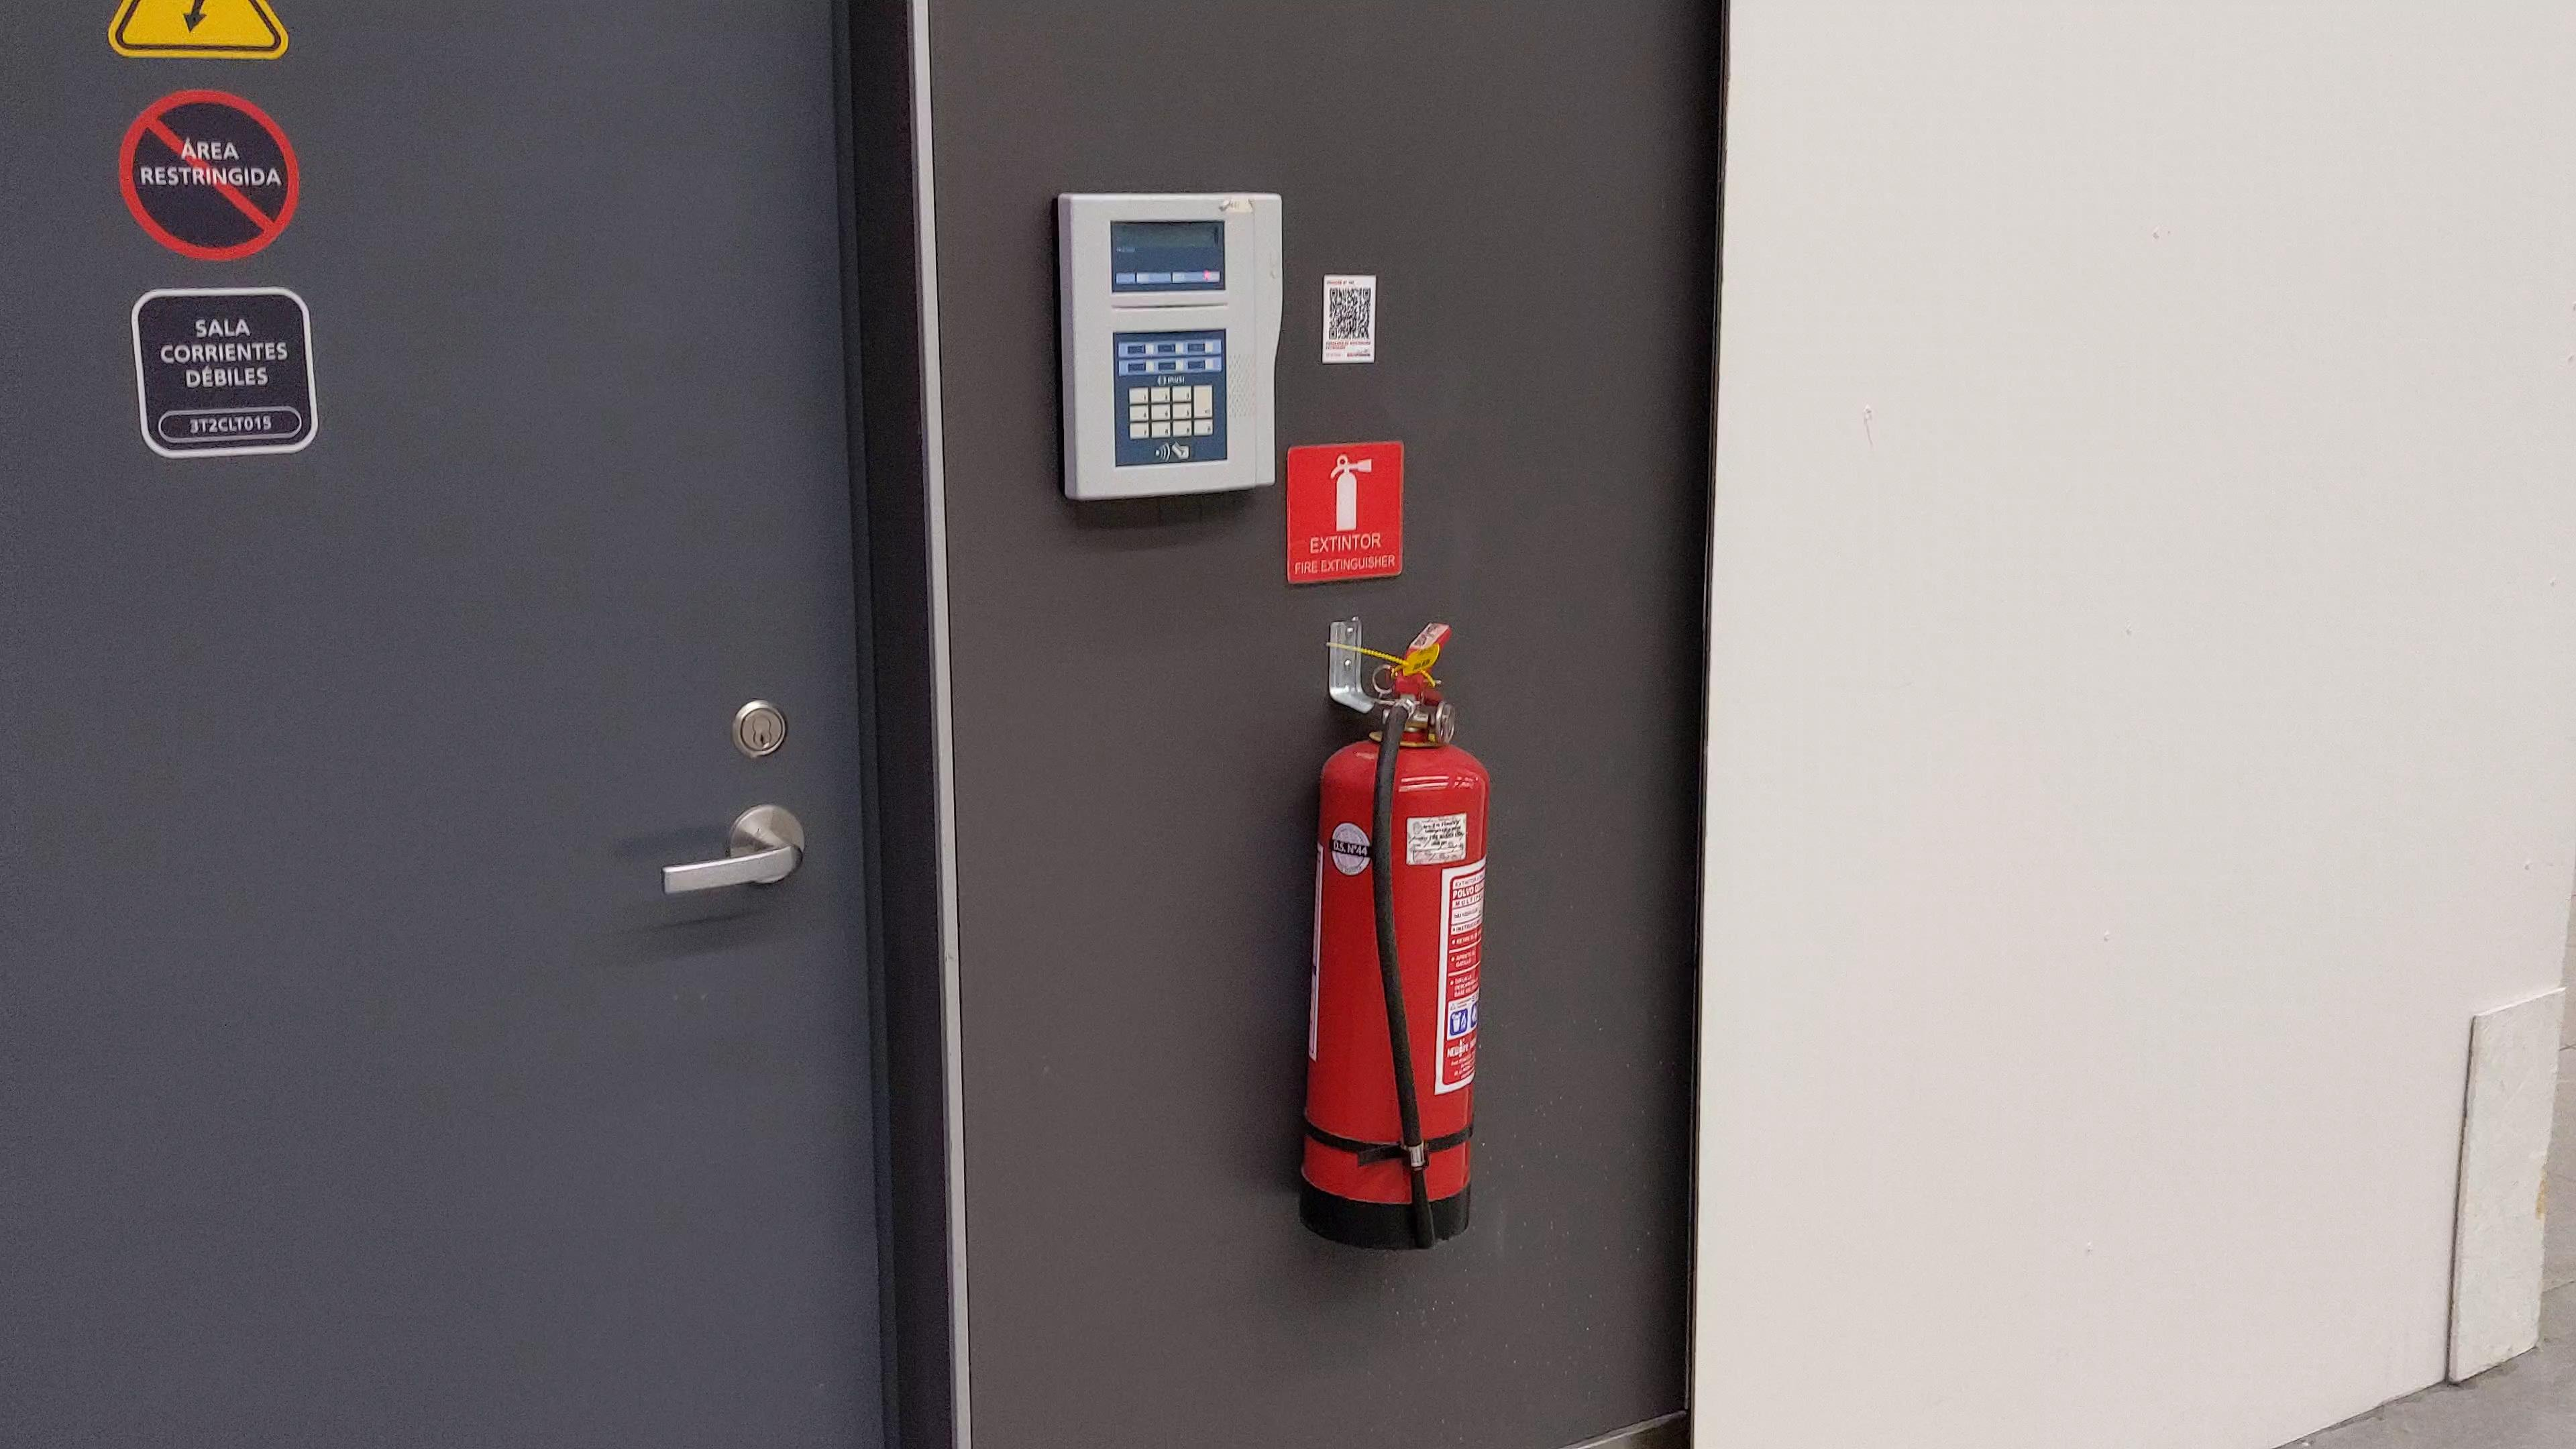extinguisher symbol: (1327, 453, 1375, 534)
fire-extinguisher: (1290, 617, 1497, 1261)
